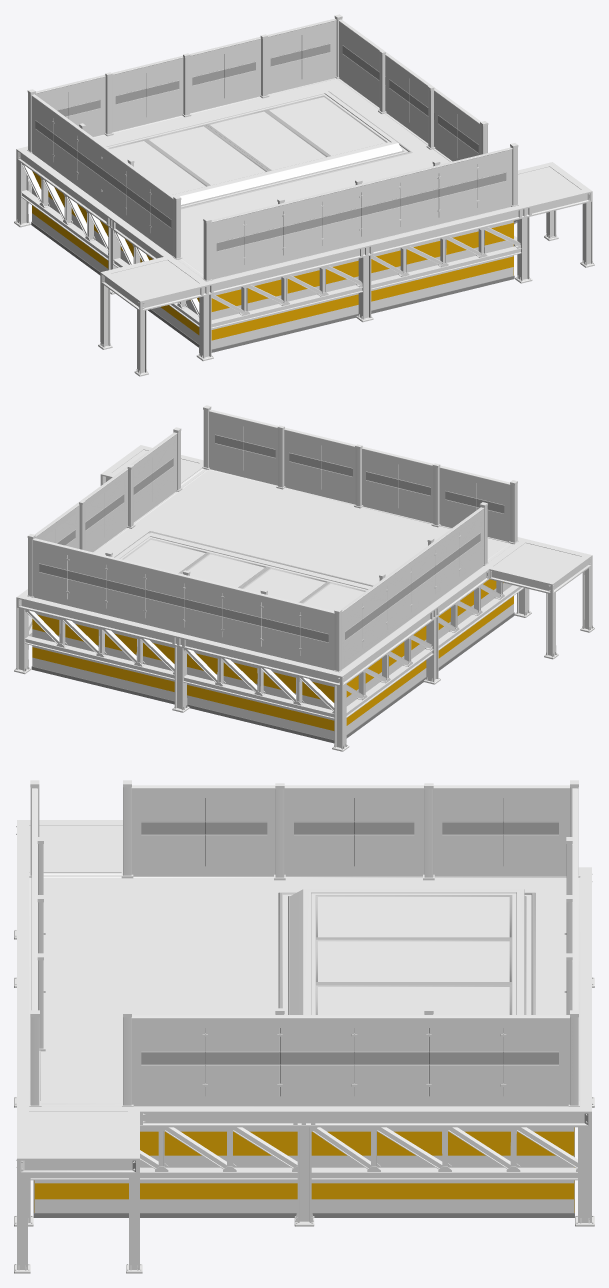
The picture shows the model from 3 angles, top to bottom: view 1: azimuth 30°, elevation 25°; view 2: azimuth 150°, elevation 25°; view 3: azimuth 270°, elevation 25°; orthographic projection. The views are drawn at different scales.
Parts seen in each view (by area): view 1: SM_H_Building_FutureTech_PrintArea_InterWall_05; view 2: SM_H_Building_FutureTech_PrintArea_InterWall_05; view 3: SM_H_Building_FutureTech_PrintArea_InterWall_05.
Boxes of the visible parts, left/top/right/bottom form: SM_H_Building_FutureTech_PrintArea_InterWall_05: left=14, top=14, right=594, bottom=376; SM_H_Building_FutureTech_PrintArea_InterWall_05: left=14, top=405, right=594, bottom=751; SM_H_Building_FutureTech_PrintArea_InterWall_05: left=14, top=780, right=594, bottom=1273.
Size of the model in its own units: 476 by 661 by 186.
